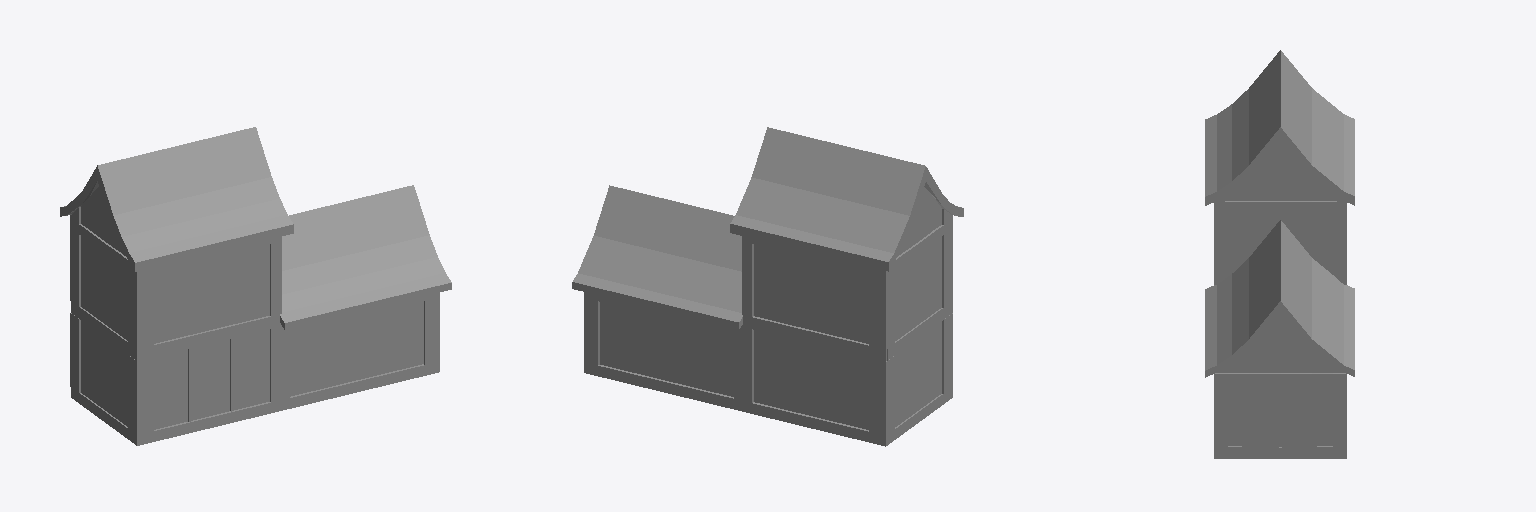
File: casaMedieval.obj
3 views of the same model, side by side, from view 1: azimuth 30°, elevation 25°; view 2: azimuth 150°, elevation 25°; view 3: azimuth 270°, elevation 25° (orthographic).
Visible parts, largest first — view 1: Cube; view 2: Cube; view 3: Cube.
Part boxes in pixels (left/top/right/bottom): Cube: left=60, top=127, right=451, bottom=445; Cube: left=572, top=127, right=963, bottom=446; Cube: left=1205, top=50, right=1354, bottom=458.
Bounding box in the file's own units: 9.43 × 7.35 × 3.88.